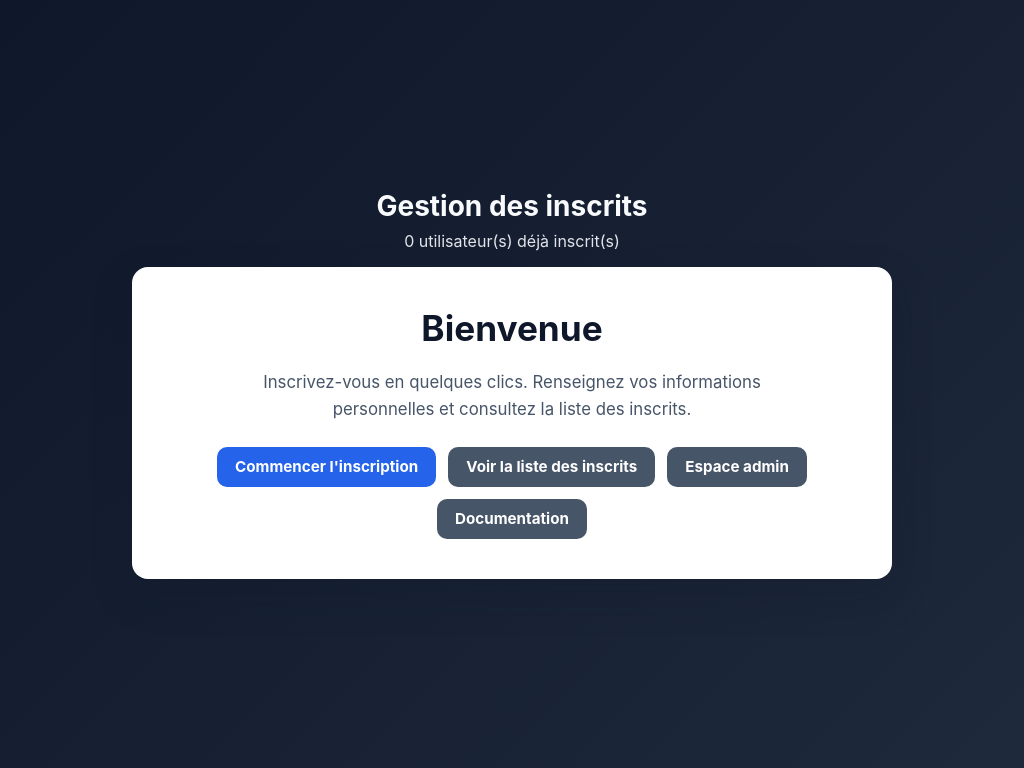
Test: Gestion des erreurs API › affiche un toast d erreur sur la liste quand le GET echoue
Click the link with test id "go-to-list".
click(552, 467)  # box [448,447,655,487]
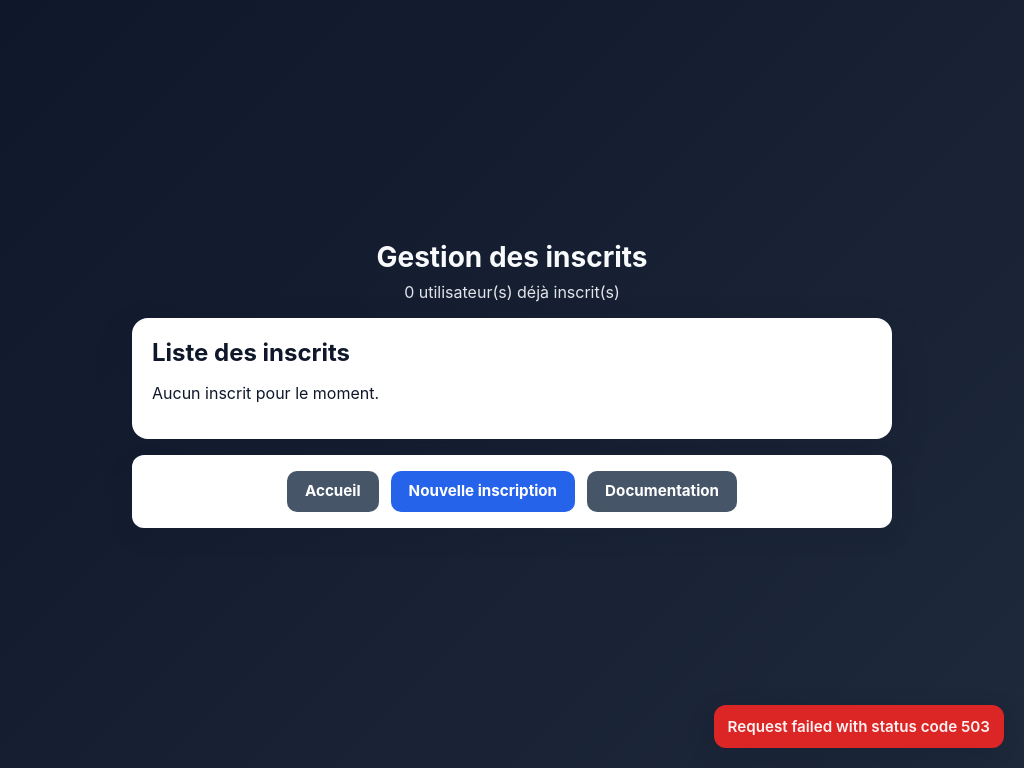
expect the element with test id "list-page" is shown: met, box [132,318,892,527]
expect the message "Request failed with status code 503" is shown: met, box [714,705,1004,748]
expect the text "Aucun inscrit pour le moment." is shown: met, box [152,383,379,403]
